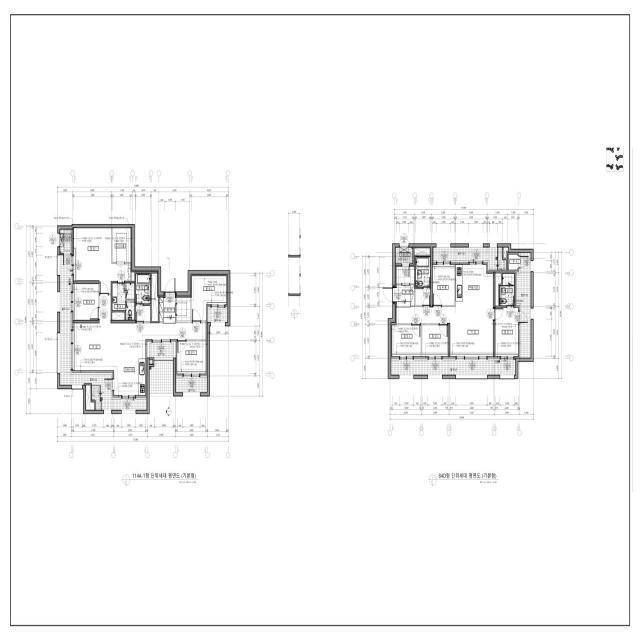space_balconi: (60, 255, 147, 410), (391, 360, 515, 375), (434, 248, 506, 270), (517, 253, 531, 358), (149, 361, 173, 393), (176, 377, 207, 392), (149, 343, 173, 358), (209, 308, 227, 323)
space_bedroom: (74, 228, 131, 293), (192, 275, 227, 321), (495, 308, 518, 356), (177, 341, 207, 374), (73, 284, 98, 320), (392, 325, 421, 356), (422, 325, 448, 356)
space_dressroom: (112, 228, 132, 262)
space_front: (159, 295, 176, 323), (396, 285, 414, 307)
space_kitchen: (114, 341, 146, 395), (456, 265, 493, 307)
space_living_room: (72, 294, 207, 373), (396, 307, 493, 356)
space_other: (433, 265, 455, 305), (177, 296, 191, 321), (396, 267, 414, 284), (152, 274, 158, 321), (416, 289, 430, 305), (136, 306, 150, 322), (86, 385, 94, 410), (495, 273, 501, 306), (509, 254, 519, 270), (415, 248, 430, 255), (112, 312, 125, 320), (503, 248, 508, 258), (132, 271, 135, 281), (150, 360, 152, 364)
space_outdoor_room: (60, 230, 72, 253), (396, 248, 413, 263)
space_toilet: (112, 283, 134, 320), (415, 257, 430, 287), (500, 274, 514, 306), (136, 274, 150, 304)
